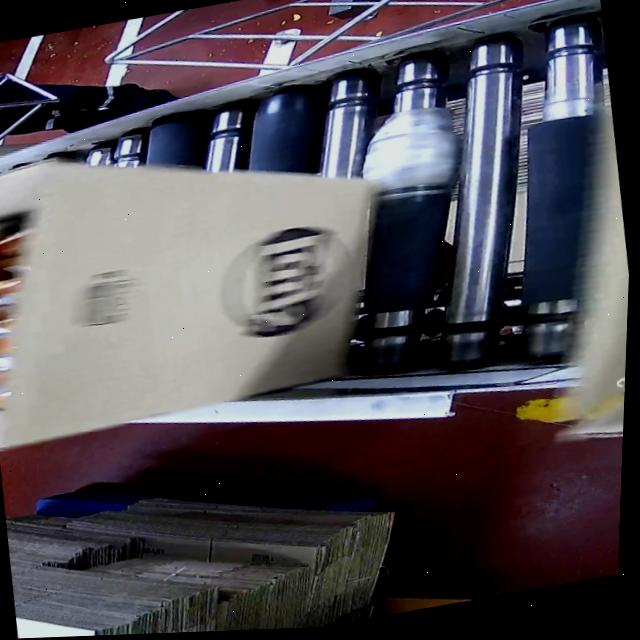FRENCH_CHEESE: (0, 215, 45, 421)
